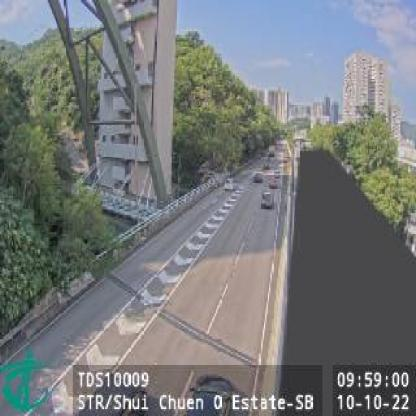Car: (173, 373, 241, 416), (224, 176, 238, 190), (260, 192, 272, 208)
